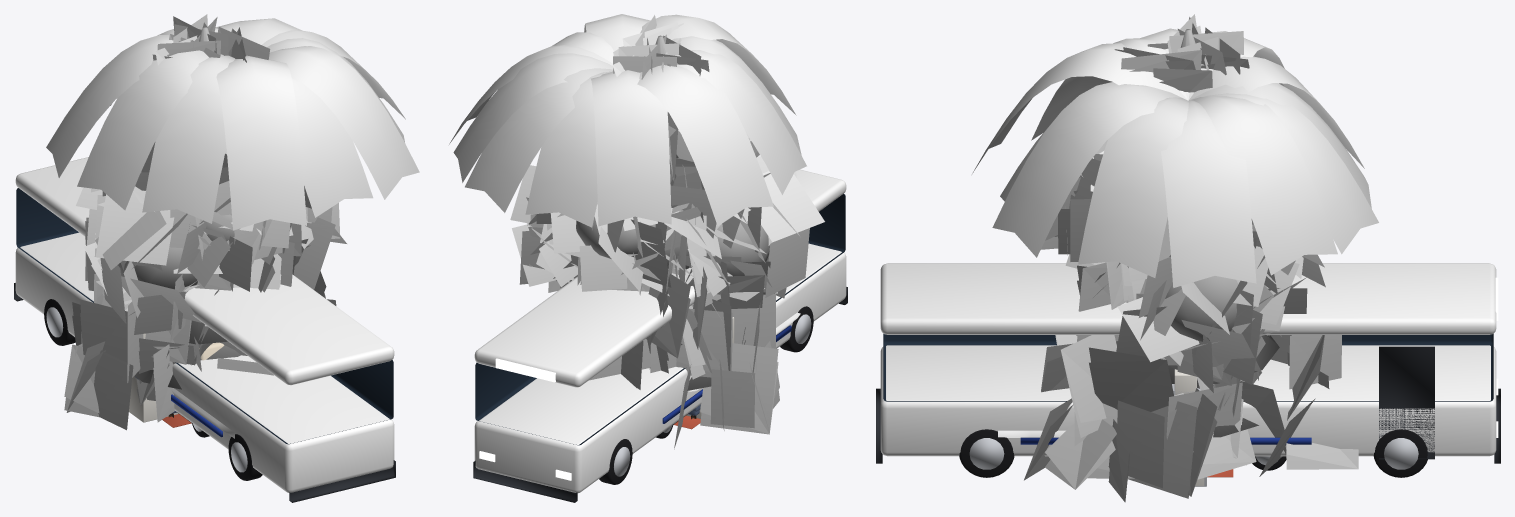
Rendered from props.glb.
3 renders of one model, left to right at view 1: azimuth 30°, elevation 25°; view 2: azimuth 150°, elevation 25°; view 3: azimuth 270°, elevation 25°, orthographic. The views are drawn at different scales.
Visible parts, largest first — view 1: Palm_Crown, Bus_Paint, TreeBroad_Crown, TreePine_Crown, Bus_Glass, TreeBroad_Core, Bus_Trim, TreePine_Core, Bus_Tyre, Bus_Rim, Kitchen_Cabinet; view 2: Palm_Crown, Bus_Paint, TreePine_Crown, TreeBroad_Crown, Bus_Glass, TreeBroad_Core, Bus_Trim, Bus_Tyre, Bus_Light, Bus_Rim, TreePine_Core; view 3: Bus_Paint, Palm_Crown, TreePine_Crown, TreeBroad_Crown, Bus_Trim, Bus_Glass, Bus_Tyre, TreeBroad_Core, Bus_Rim, TreePine_Core.
Boxes of the visible parts, bbox=[...] form: Palm_Crown: bbox=[46, 18, 419, 230]; Bus_Paint: bbox=[15, 157, 394, 492]; TreeBroad_Crown: bbox=[76, 142, 346, 334]; TreePine_Crown: bbox=[64, 14, 336, 430]; Bus_Glass: bbox=[16, 188, 393, 444]; TreeBroad_Core: bbox=[118, 214, 234, 289]; Bus_Trim: bbox=[14, 283, 395, 502]; TreePine_Core: bbox=[135, 27, 240, 389]; Bus_Tyre: bbox=[44, 299, 262, 480]; Bus_Rim: bbox=[46, 307, 247, 472]; Kitchen_Cabinet: bbox=[129, 333, 178, 422]; Palm_Crown: bbox=[449, 14, 806, 227]; Bus_Paint: bbox=[474, 169, 846, 493]; TreePine_Crown: bbox=[548, 15, 779, 449]; TreeBroad_Crown: bbox=[510, 125, 824, 322]; Bus_Glass: bbox=[475, 194, 845, 445]; TreeBroad_Core: bbox=[576, 158, 769, 276]; Bus_Trim: bbox=[473, 287, 847, 502]; Bus_Tyre: bbox=[599, 306, 813, 484]; Bus_Light: bbox=[479, 358, 571, 480]; Bus_Rim: bbox=[614, 314, 811, 476]; TreePine_Core: bbox=[655, 35, 711, 391]; Bus_Paint: bbox=[880, 263, 1496, 456]; Palm_Crown: bbox=[972, 28, 1378, 287]; TreePine_Crown: bbox=[1024, 14, 1358, 502]; TreeBroad_Crown: bbox=[1041, 140, 1325, 392]; Bus_Trim: bbox=[876, 346, 1500, 463]; Bus_Glass: bbox=[883, 334, 1493, 401]; Bus_Tyre: bbox=[959, 429, 1427, 477]; TreeBroad_Core: bbox=[1165, 276, 1238, 341]; Bus_Rim: bbox=[969, 438, 1418, 469]; TreePine_Core: bbox=[1116, 29, 1279, 437].
Size of the model in its own units: 7.54 by 8.3 by 11.16.
